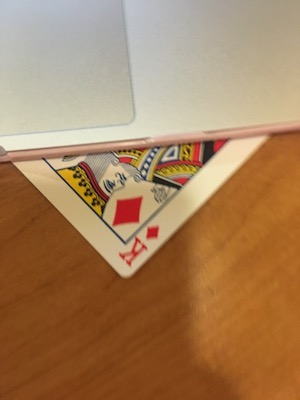KingOfDiamonds: (1, 89, 283, 284)
